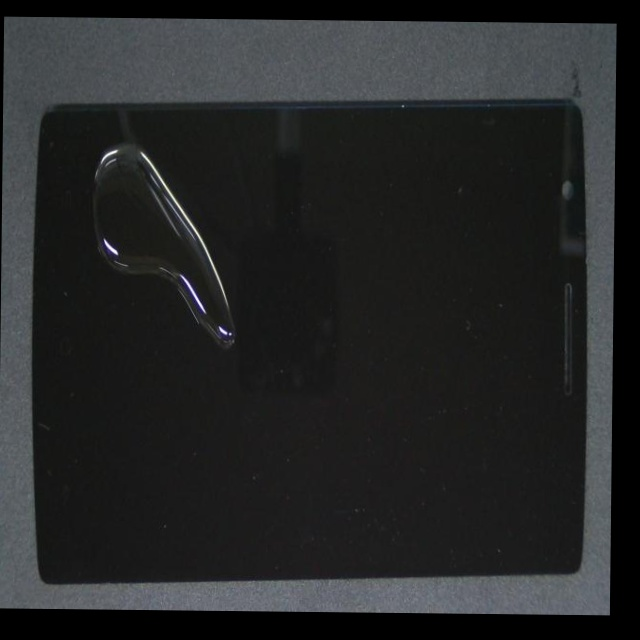oil: (72, 131, 306, 469)
